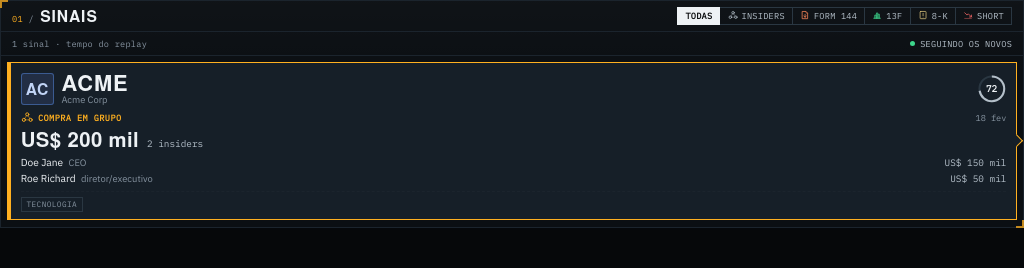
SignalFeed › switches language live, without remounting
Expected: the heading "01 Sinais" is shown, x1=12 y1=5 x2=98 y2=27
Expected: the text "1 sinal · tempo do replay" is shown, x1=12 y1=38 x2=147 y2=50
Click the button "Insiders". click: (756, 16)
box: x1=720 y1=7 x2=793 y2=26
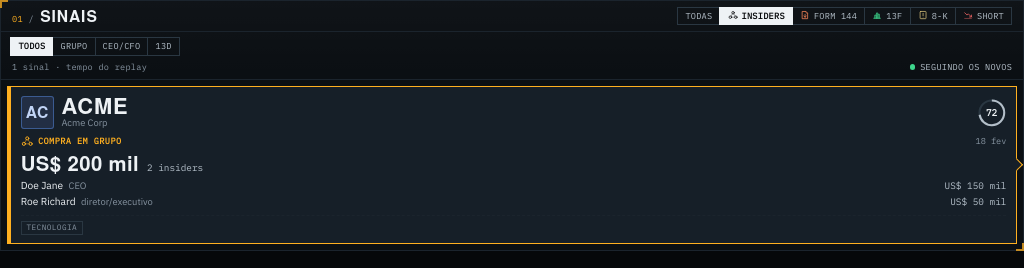
Result: the button "Grupo" is shown at x1=52 y1=37 x2=96 y2=56
